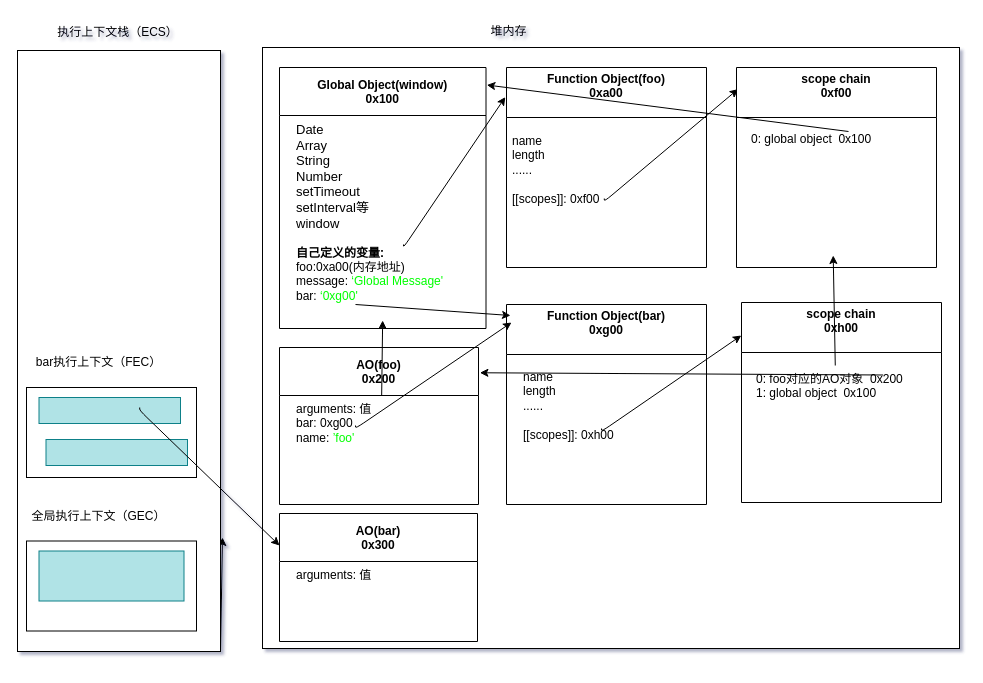
The diagram is 983 pixels wide and 683 high, and some of its shapes have lost their labels. The centre of each missing label's shape, as x and y in pixels:
log(name): pixel 116 452
VO:AO: pixel 109 410
VO:GO scope chain this: pixel 111 575
